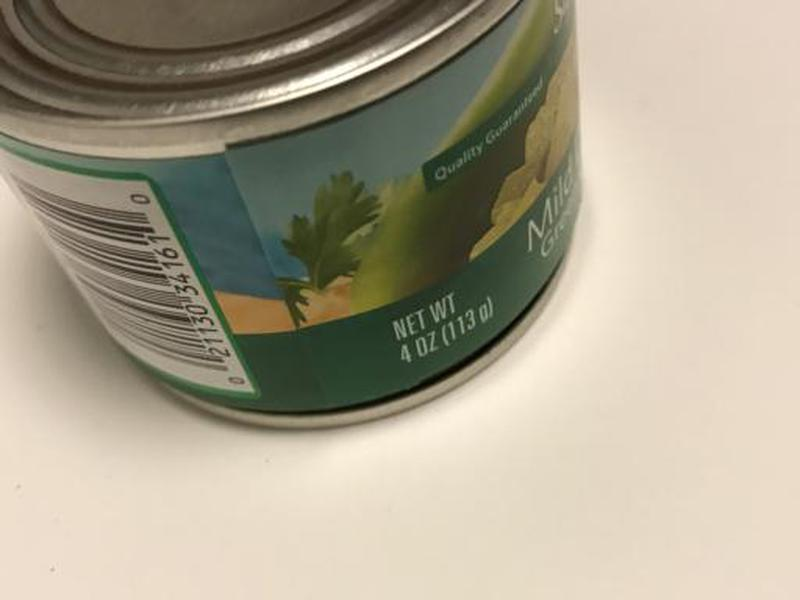can: (1, 1, 590, 435)
